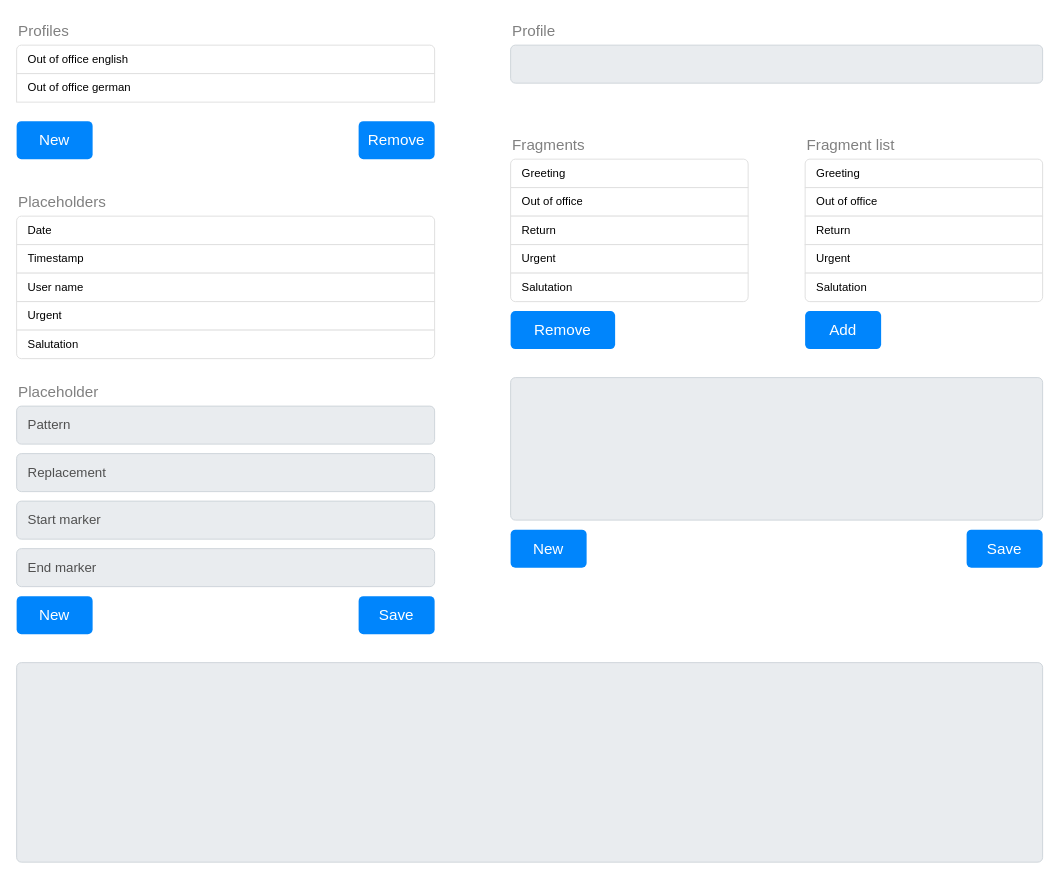
The diagram is 1059 pixels wide and 879 high, and some of its shapes have lost their labels. The centre of each missing label's shape, as x and y in pixels:
"Fragment text" belongs at pixel 776 448.
"Name" belongs at pixel 776 63.
"Profile text" belongs at pixel 529 762.
